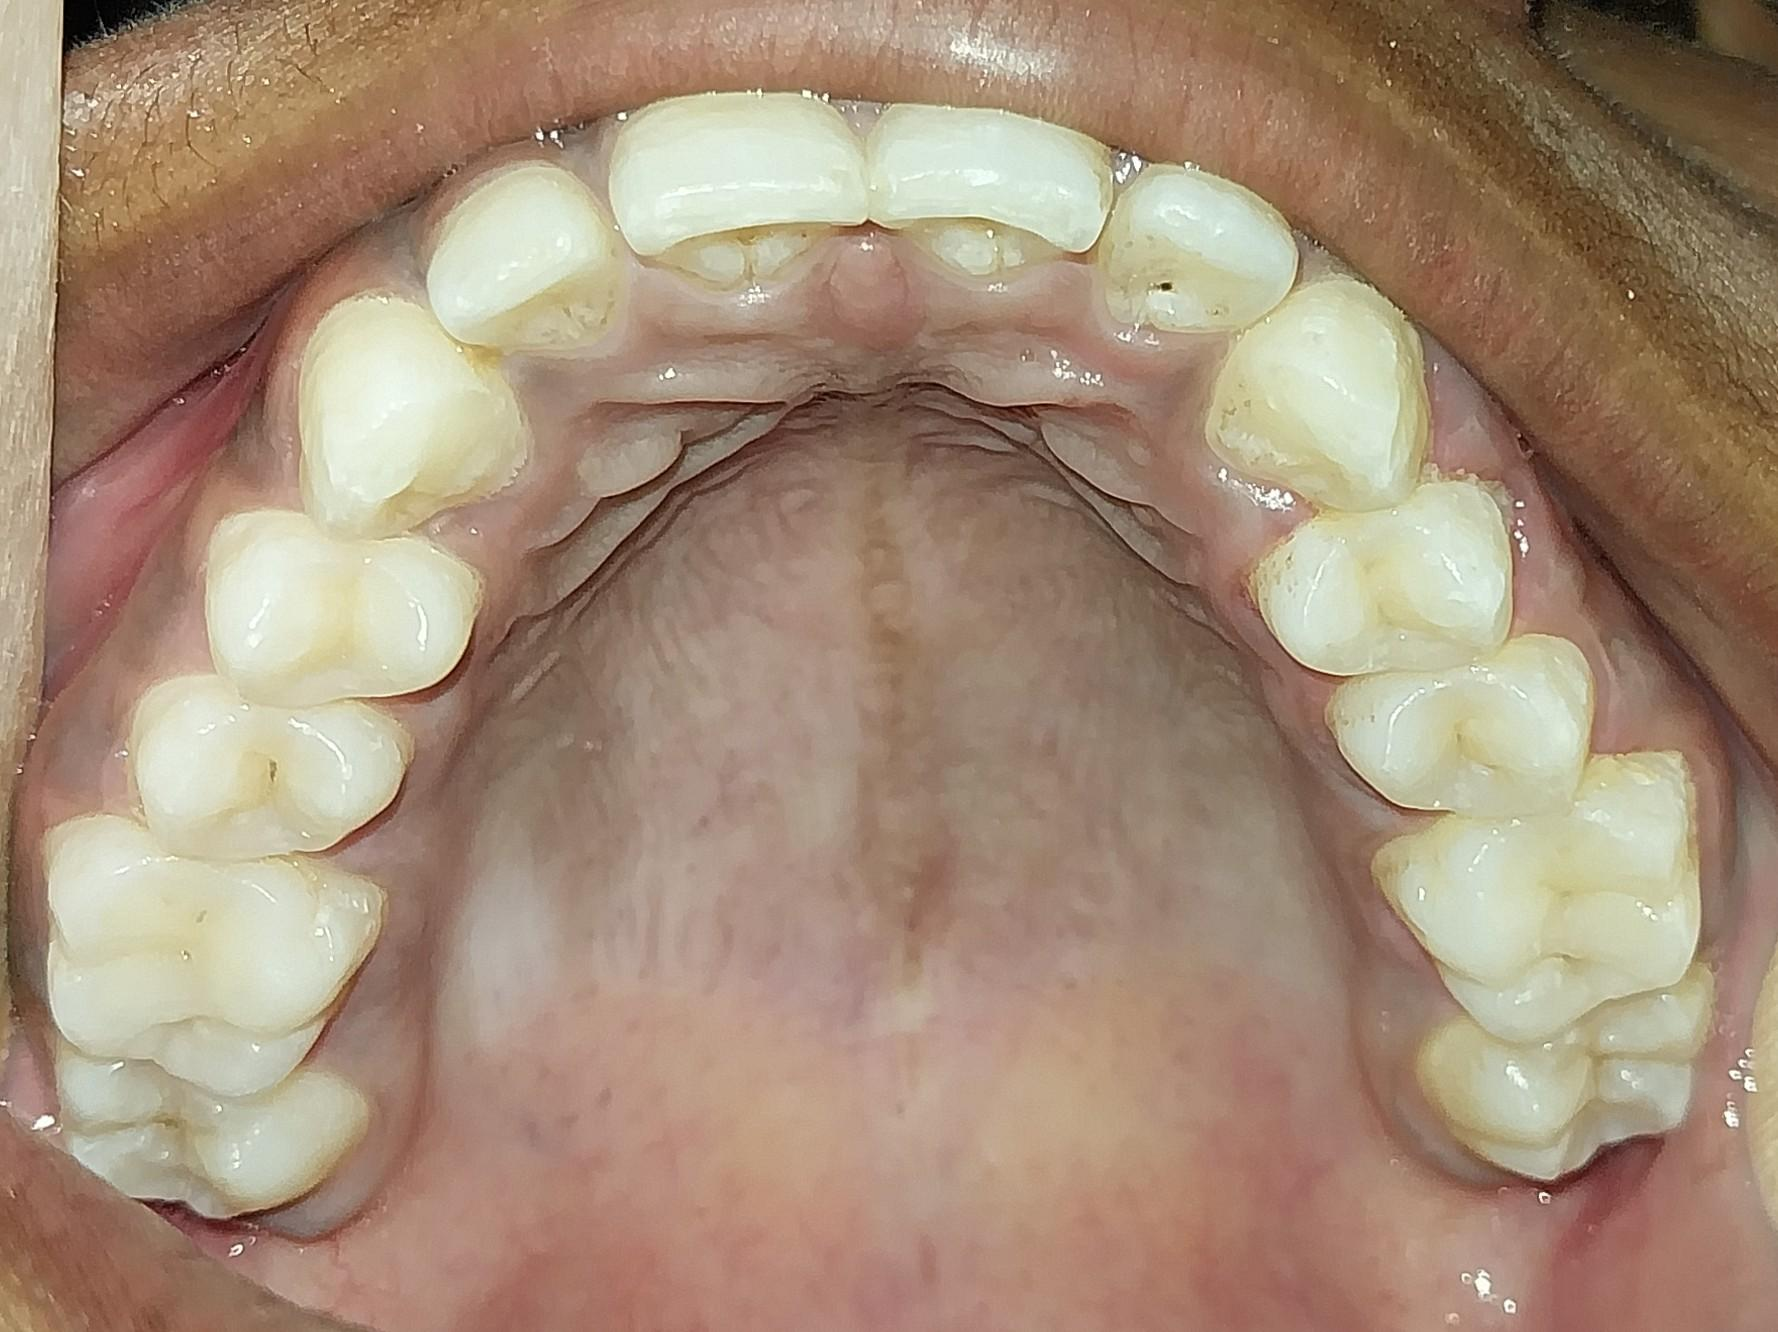D: (1095, 150, 1300, 334)
